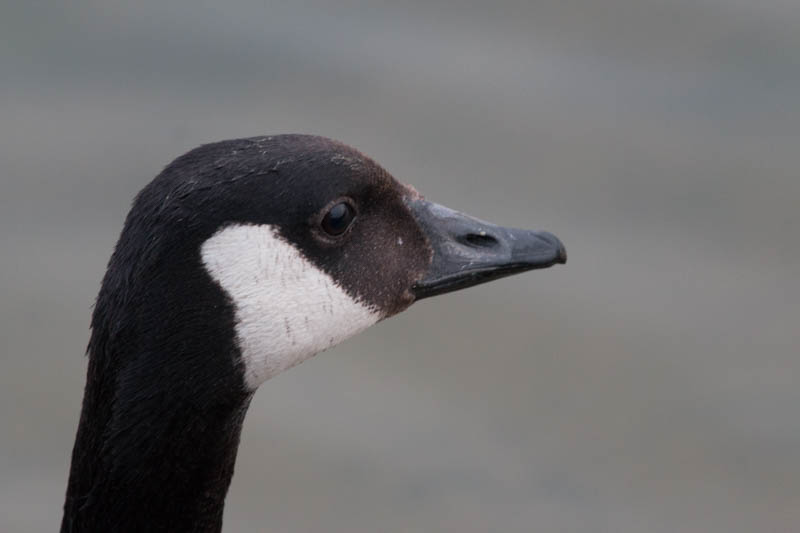goose-head: (90, 136, 568, 396)
